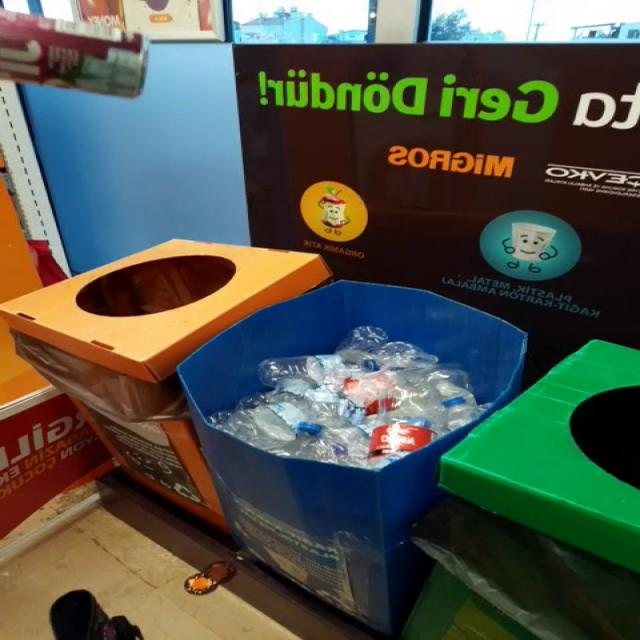bin: (1, 241, 328, 425), (0, 240, 329, 384), (205, 326, 492, 471), (259, 532, 357, 615)
metal: (0, 10, 144, 97)
